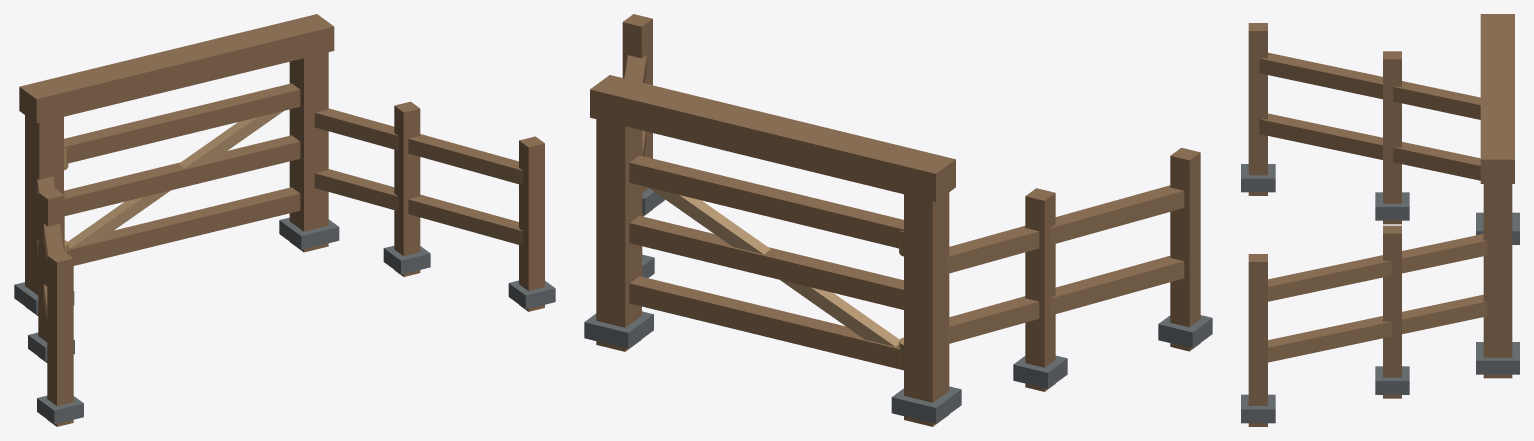
Rendered from vf_livestock_culling_gate.glb.
3 views of the same model, side by side, from view 1: azimuth 30°, elevation 25°; view 2: azimuth 150°, elevation 25°; view 3: azimuth 270°, elevation 25° (orthographic). The views are drawn at different scales.
Parts seen in each view (by area): view 1: Static_Oak, Gate_Oak, Static_Iron, Gate_OakLight; view 2: Static_Oak, Gate_Oak, Static_Iron, Gate_OakLight; view 3: Static_Oak, Static_Iron.
Part boxes in pixels (x1,y1,x2,y2): Static_Oak: [19, 14, 544, 426]; Gate_Oak: [64, 83, 300, 265]; Static_Iron: [14, 217, 555, 424]; Gate_OakLight: [67, 111, 283, 247]; Static_Oak: [590, 14, 1200, 426]; Gate_Oak: [629, 155, 903, 370]; Static_Iron: [584, 188, 1212, 423]; Gate_OakLight: [648, 187, 899, 346]; Static_Oak: [1248, 14, 1514, 426]; Static_Iron: [1241, 164, 1519, 423].
Bounding box in the file's own units: 3.03 × 1.27 × 1.46.
